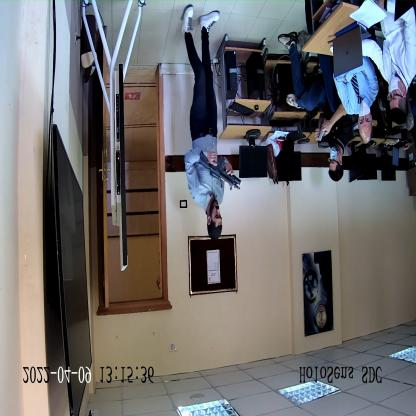handgun: (198, 151, 238, 189)
